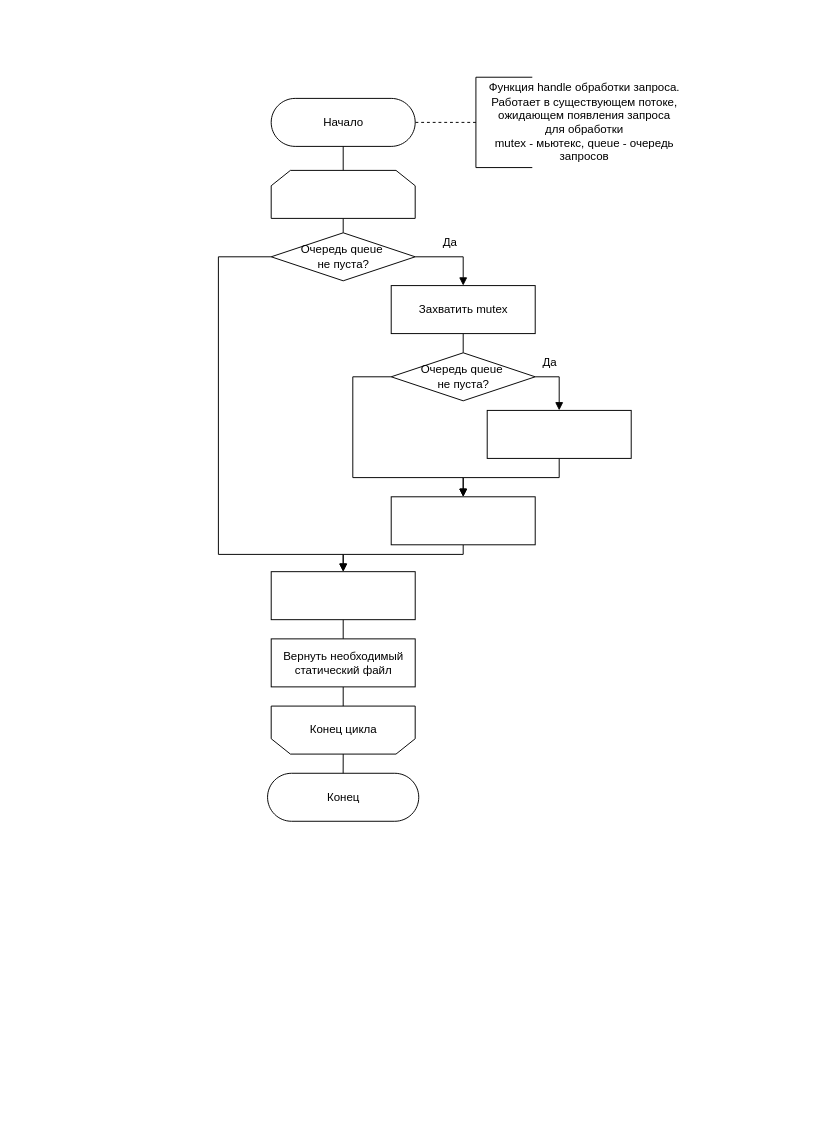
The diagram is 820 pixels wide and 1146 high, and some of its shapes have lost their labels. Here are the shapes that lost their labels. From the top down, the centre of each, then its label:
[342,193]: Пока правда
[558,433]: Достать запрос из очереди queue
[462,520]: Освободить mutex
[342,595]: Обработать запрос
